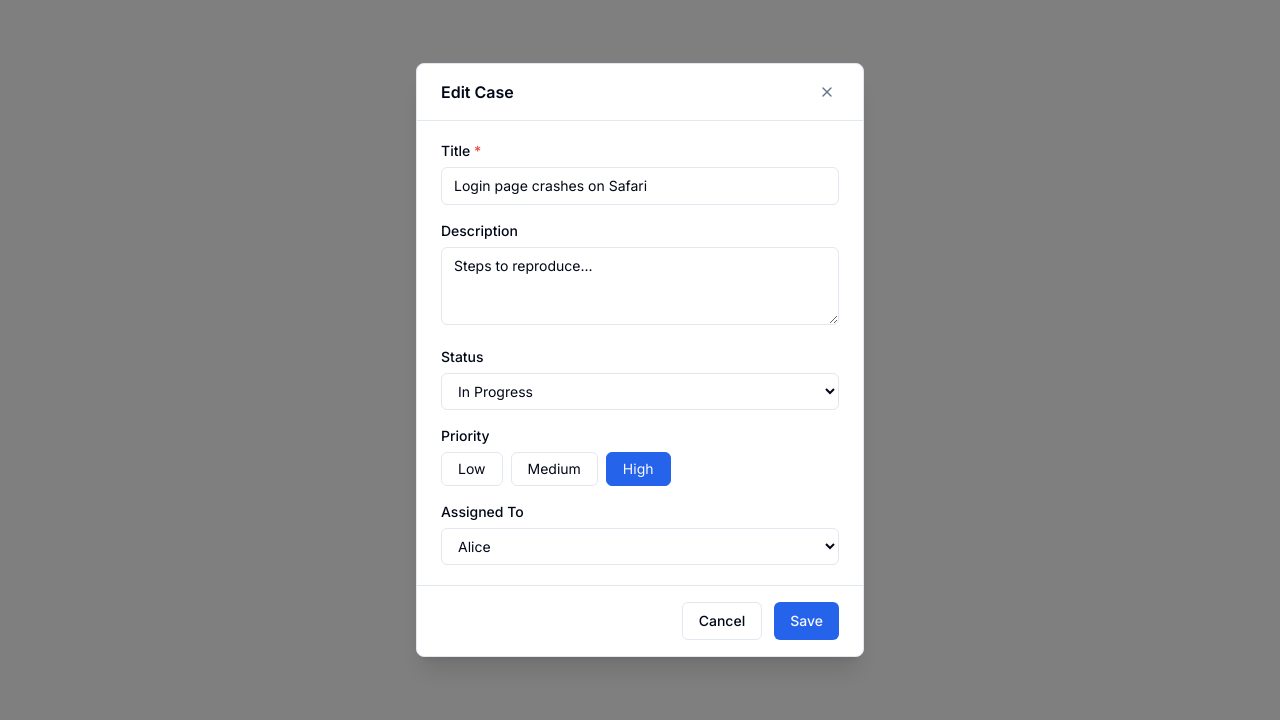
EditCaseModal › shows API error message when mutateAsync throws
The width and height of the screenshot is (1280, 720).
Click the button "Save" at (807, 621), box [774,602,839,640]
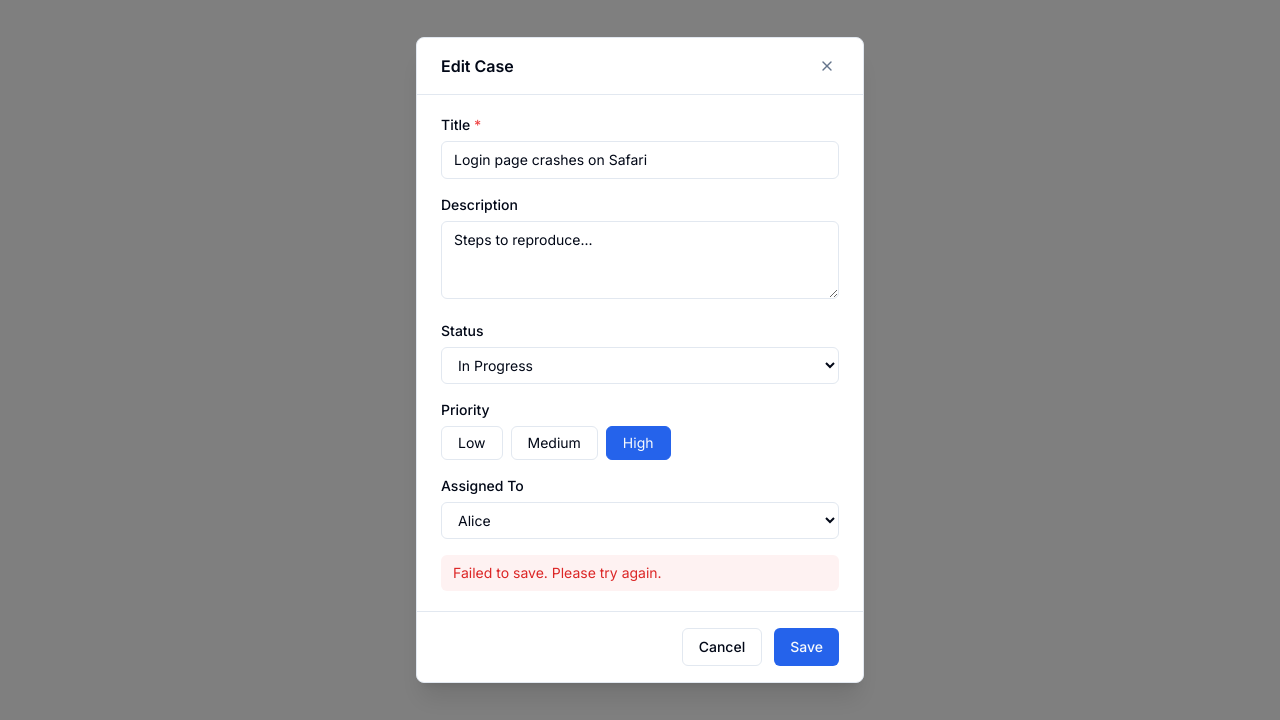
Expected: the text "Failed to save. Please try again." is shown, [441,555,839,591]
